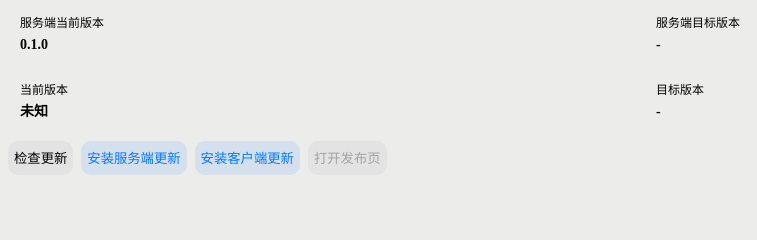
Test case: DesktopUnifiedUpdatePanel › 服务端检查失败时，仍会继续检查桌面端更新
Click the button "检查更新" at (41, 158), box [8, 141, 73, 175]
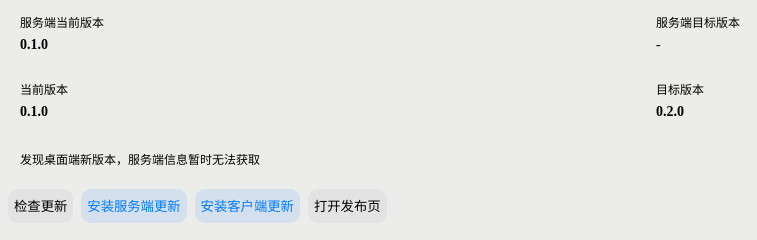
Now the text "发现桌面端新版本，服务端信息暂时无法获取" is shown, box [20, 153, 260, 167]
Now the text "0.2.0" is shown, box [656, 104, 684, 119]
